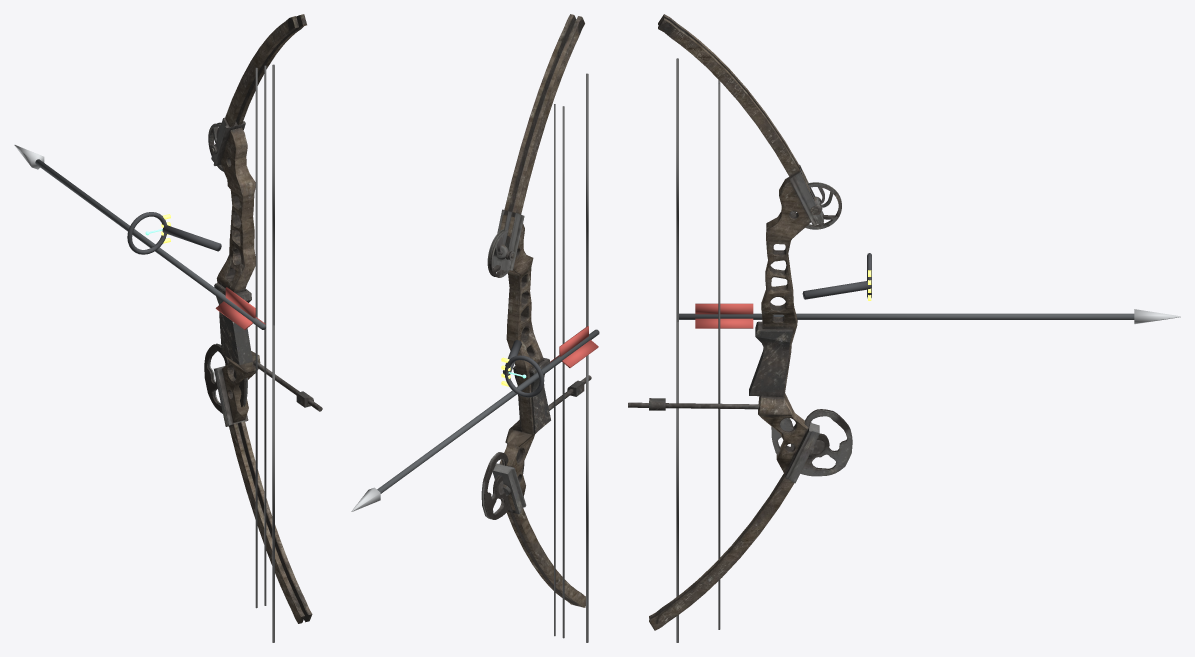
Rendered from weapon_bow.glb.
3 views of the same model, side by side, from view 1: azimuth 30°, elevation 25°; view 2: azimuth 150°, elevation 25°; view 3: azimuth 270°, elevation 25° (orthographic). The views are drawn at different scales.
Parts seen in each view (by area): view 1: Riser, LimbBot, LimbTop, Arrow, BussCable_0, BussCable_1, SightRing, StringBot, CamBot, ArrowFletch, StringTop; view 2: Riser, LimbTop, LimbBot, Arrow, BussCable_1, CamBot, BussCable_0, StringBot, ArrowFletch, SightRing, StringTop, CamTop; view 3: Riser, LimbTop, LimbBot, Arrow, CamBot, BussCable_0, ArrowFletch, StringBot, StringTop, CamTop, SightRing.
Part boxes in pixels (x1,y1,x2,y2): Riser: [211, 117, 322, 426]; LimbBot: [229, 421, 312, 623]; LimbTop: [225, 14, 306, 126]; Arrow: [35, 159, 266, 329]; BussCable_0: [264, 65, 266, 605]; BussCable_1: [255, 67, 257, 608]; SightRing: [127, 212, 221, 254]; StringBot: [272, 325, 274, 642]; CamBot: [204, 343, 247, 413]; ArrowFletch: [215, 287, 265, 329]; StringTop: [272, 64, 274, 325]; Riser: [492, 209, 591, 514]; LimbTop: [500, 14, 584, 238]; LimbBot: [506, 493, 585, 607]; Arrow: [377, 329, 599, 493]; BussCable_1: [562, 106, 564, 638]; CamBot: [481, 449, 524, 519]; BussCable_0: [554, 104, 555, 636]; StringBot: [586, 355, 588, 642]; ArrowFletch: [550, 326, 598, 367]; SightRing: [503, 340, 544, 397]; StringTop: [586, 73, 588, 326]; CamTop: [487, 229, 515, 277]; Riser: [628, 164, 823, 483]; LimbTop: [658, 14, 810, 191]; LimbBot: [649, 450, 811, 630]; Arrow: [679, 313, 1134, 319]; CamBot: [771, 409, 852, 476]; BussCable_0: [718, 83, 720, 629]; ArrowFletch: [695, 303, 753, 328]; StringBot: [676, 321, 678, 642]; StringTop: [676, 58, 678, 322]; CamTop: [790, 182, 841, 229]; SightRing: [802, 253, 871, 299].
Bounding box in the file's own units: 0.09 × 0.6745 × 0.5328.
8 materials, 1 textured.
